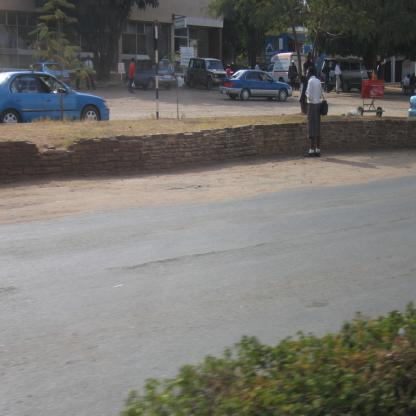Car: (1, 64, 113, 125), (221, 71, 294, 103), (126, 57, 178, 92), (186, 59, 231, 90), (38, 65, 72, 92)
